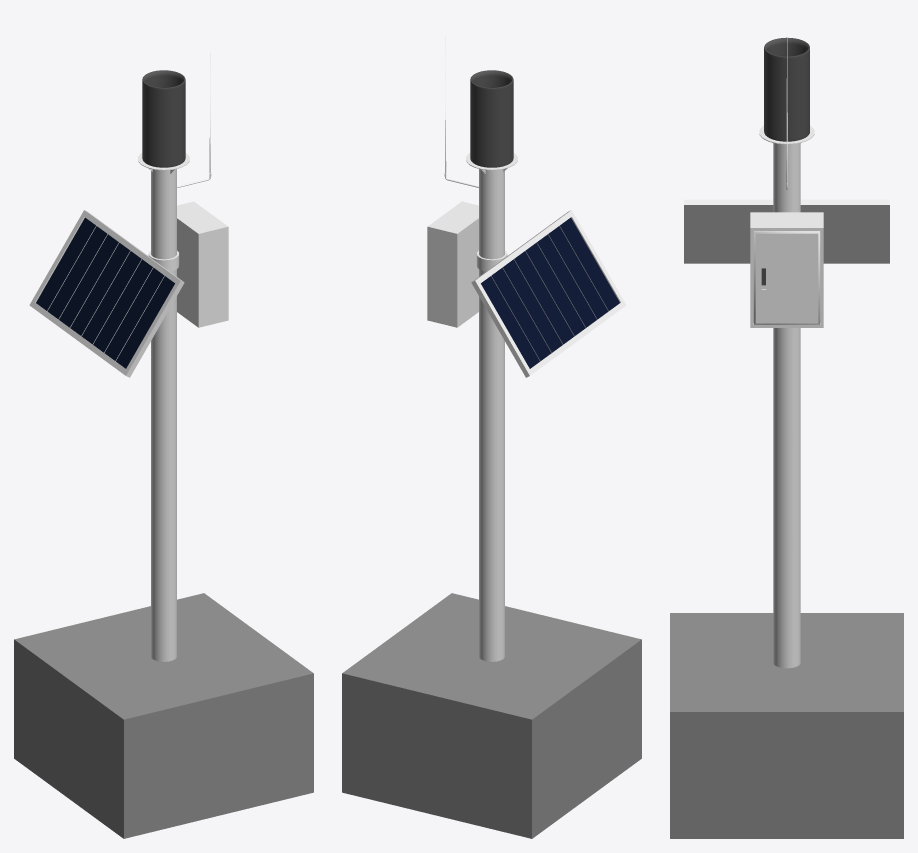
Rendered from yu-sensor.obj.
3 views of the same model, side by side, from view 1: azimuth 30°, elevation 25°; view 2: azimuth 150°, elevation 25°; view 3: azimuth 270°, elevation 25° (orthographic). The views are drawn at different scales.
Parts seen in each view (by area): view 1: Box109, Box108, Cylinder005, Box114, Cylinder006; view 2: Box109, Box108, Cylinder005, Box114, Cylinder006; view 3: Box109, Cylinder005, Box108, Box114, Cylinder006.
Boxes of the visible parts, x1,y1,x2,y2 form: Box109: [14, 593, 313, 838]; Box108: [29, 210, 184, 377]; Cylinder005: [151, 169, 176, 661]; Box114: [177, 201, 228, 327]; Cylinder006: [142, 70, 185, 167]; Box109: [342, 593, 641, 838]; Box108: [471, 210, 626, 377]; Cylinder005: [479, 169, 504, 661]; Box114: [427, 201, 478, 327]; Cylinder006: [470, 70, 513, 167]; Box109: [670, 613, 903, 838]; Cylinder005: [773, 143, 800, 668]; Box108: [684, 199, 889, 263]; Box114: [750, 212, 823, 327]; Cylinder006: [764, 37, 809, 141].
Size of the model in its own units: 100 by 377 by 100.
